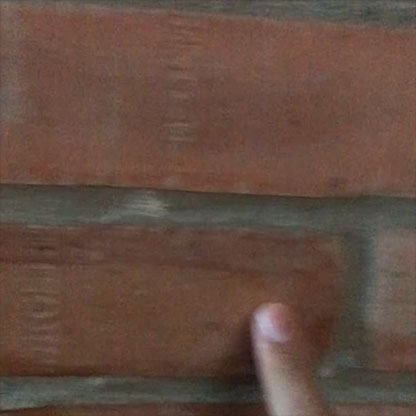fingertip: (246, 291, 314, 350)
